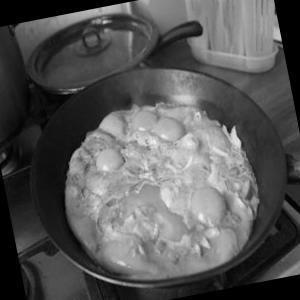omelet: (39, 75, 272, 292)
